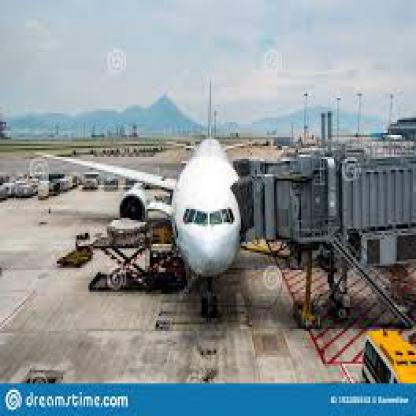boarding bridge: (210, 172, 262, 248)
